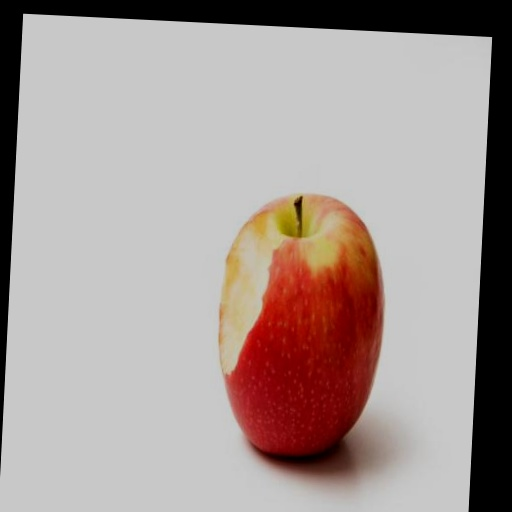fruit: (219, 195, 383, 456)
